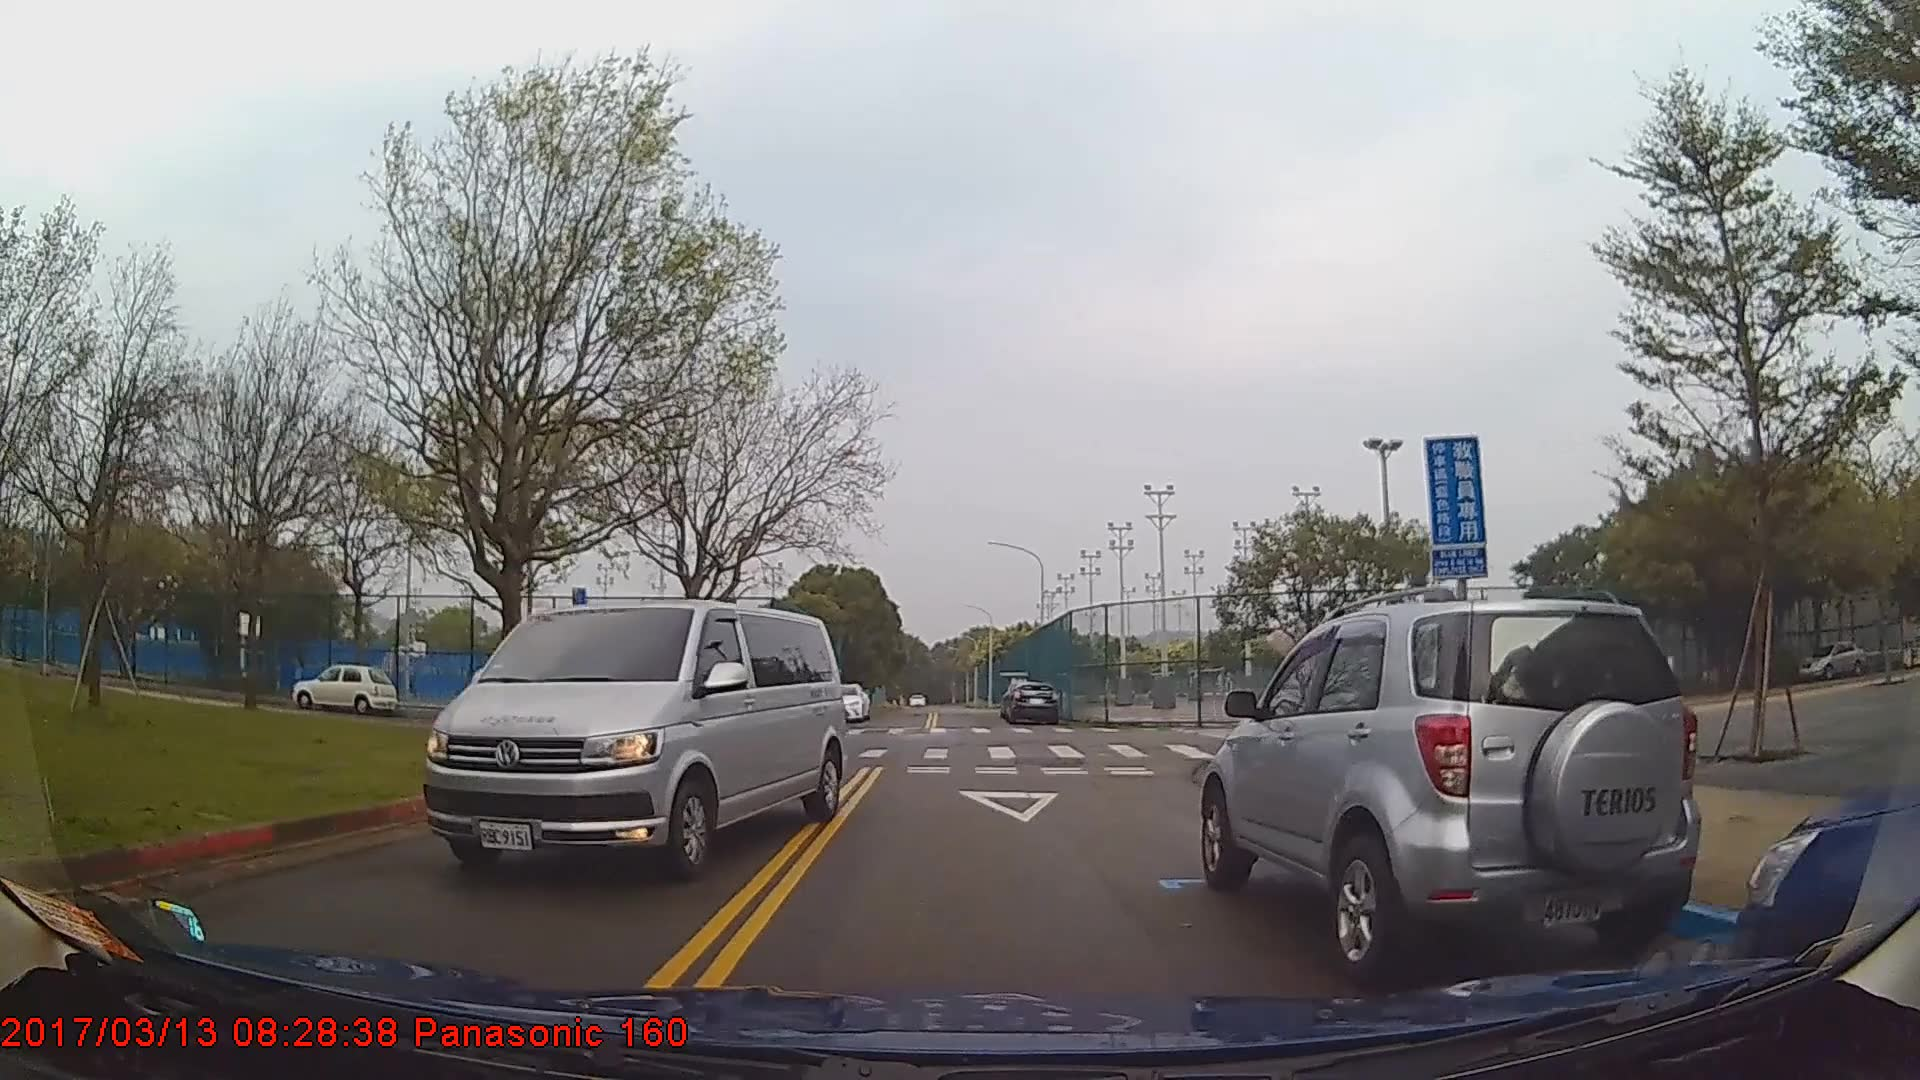vehicle: (1197, 595, 1701, 978), (419, 601, 847, 881), (289, 663, 394, 713), (1797, 640, 1867, 680), (1004, 679, 1062, 724), (819, 682, 868, 723)
